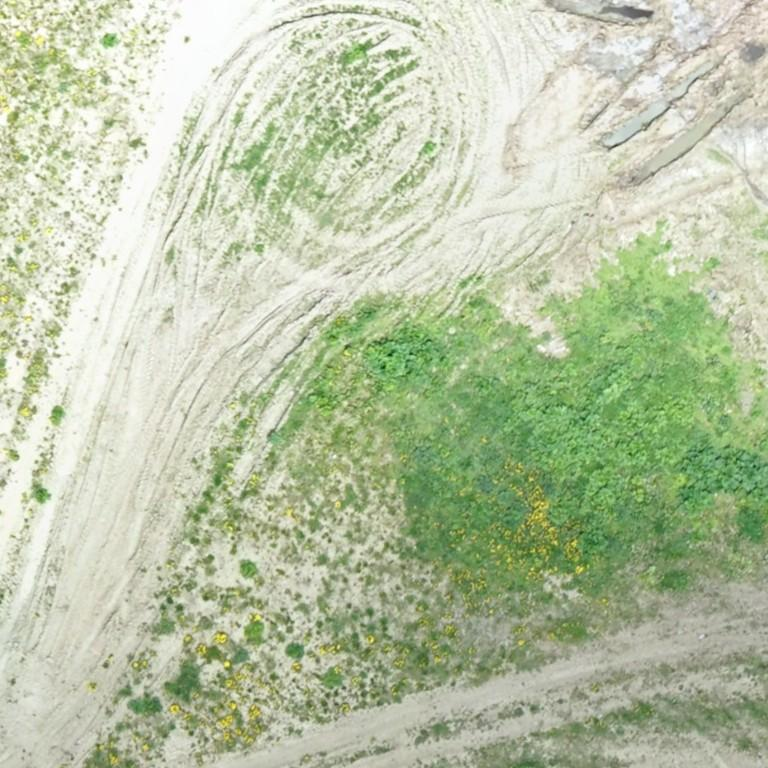hogweed: (515, 364, 690, 508), (671, 439, 767, 503), (362, 327, 450, 383), (579, 530, 608, 552)
